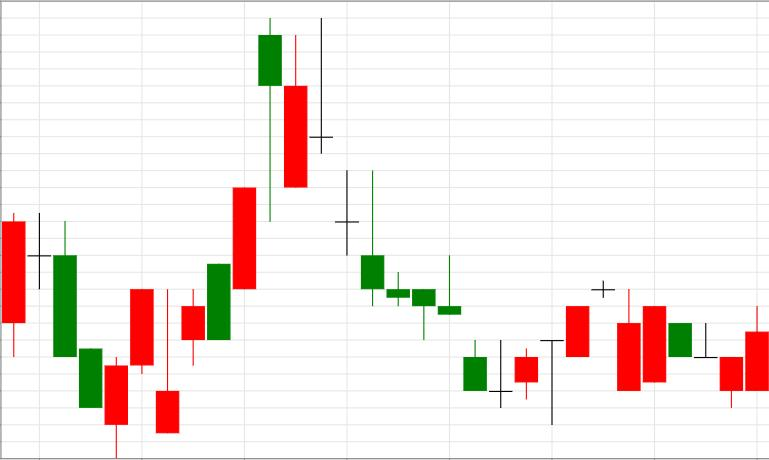hanging_man_fall: (156, 18, 282, 434)
morning_star_rise: (309, 17, 538, 408)
